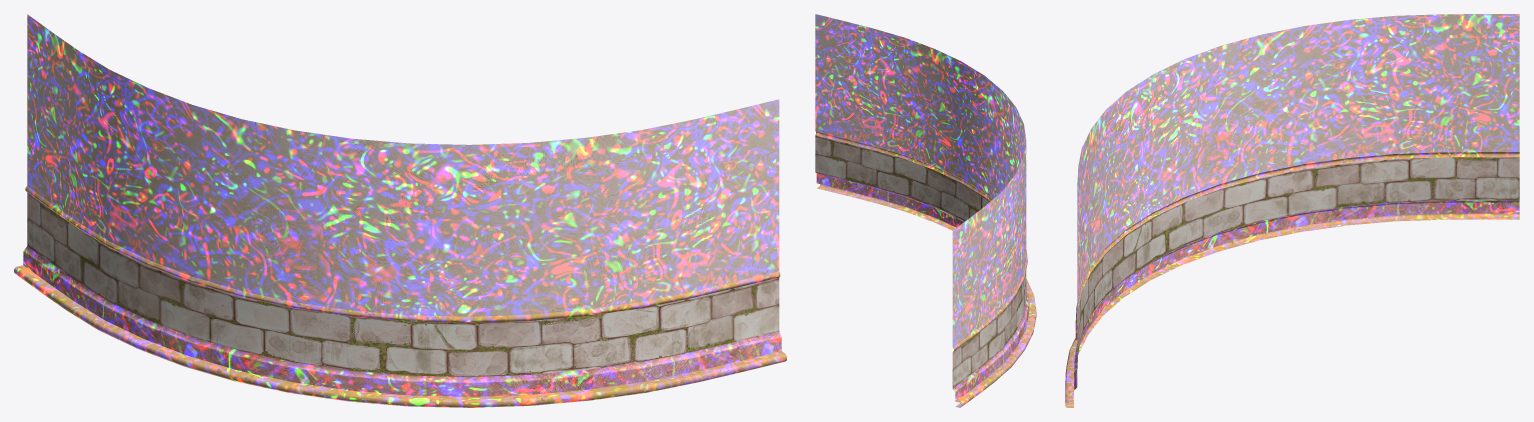
The model's file is wall_corner_small_SM.fbx.
3 views of the same model, side by side, from view 1: azimuth 30°, elevation 25°; view 2: azimuth 150°, elevation 25°; view 3: azimuth 270°, elevation 25° (orthographic). The views are drawn at different scales.
Visible parts, largest first — view 1: wall_corner_small_SM_LOD0; view 2: wall_corner_small_SM_LOD0; view 3: wall_corner_small_SM_LOD0.
Boxes of the visible parts, x1,y1,x2,y2 form: wall_corner_small_SM_LOD0: (14, 14, 786, 407); wall_corner_small_SM_LOD0: (815, 14, 1036, 407); wall_corner_small_SM_LOD0: (1065, 14, 1519, 407).
Size of the model in its own units: 1024 by 1024 by 515.
Materials: 4 (4 with a texture image).
